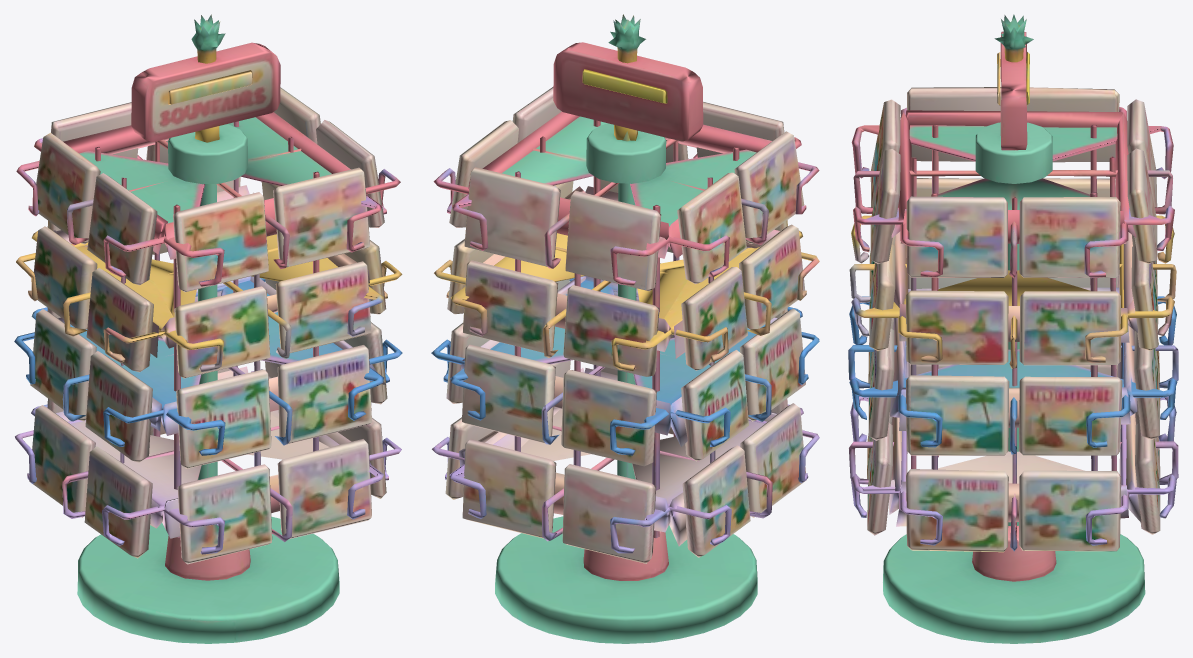
Rendered from guide-postcard-rack.glb.
3 views of the same model, side by side, from view 1: azimuth 30°, elevation 25°; view 2: azimuth 150°, elevation 25°; view 3: azimuth 270°, elevation 25° (orthographic).
Visible parts, largest first — view 1: geometry_0; view 2: geometry_0; view 3: geometry_0.
Boxes of the visible parts, x1,y1,x2,y2 form: geometry_0: [14, 14, 402, 643]; geometry_0: [431, 14, 819, 643]; geometry_0: [848, 14, 1178, 643].
Size of the model in its own units: 0.5341 by 0.9982 by 0.5249.
1 material, 1 textured.
